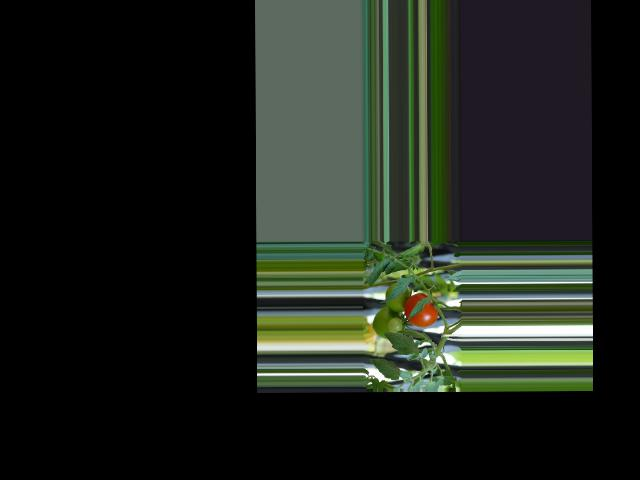tomato: (404, 293, 438, 327)
